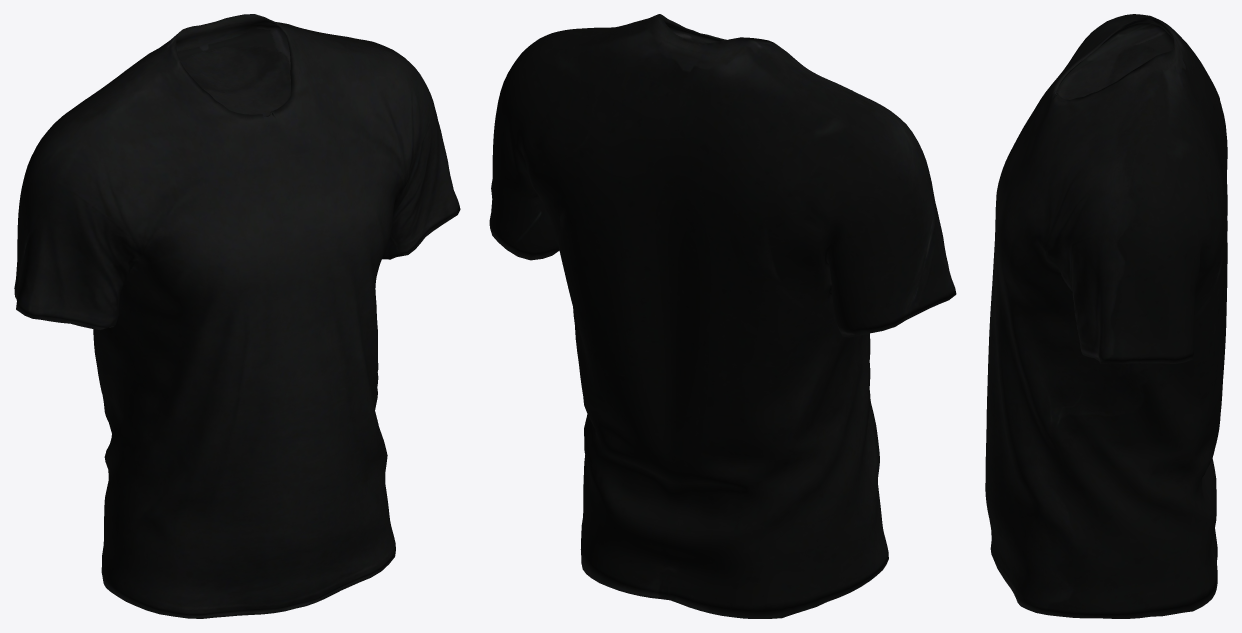
File: shirt4.glb
3 views of the same model, side by side, from view 1: azimuth 30°, elevation 25°; view 2: azimuth 150°, elevation 25°; view 3: azimuth 270°, elevation 25° (orthographic). The views are drawn at different scales.
Bounding box in the file's own units: 1.75 × 2.01 × 0.8348.
Materials: 1 (1 with a texture image).
